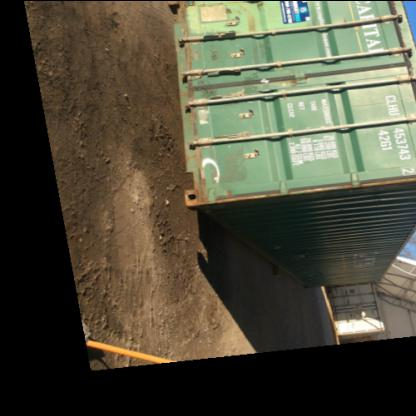Damage: (201, 135, 247, 187), (190, 78, 232, 96), (191, 106, 223, 128), (195, 42, 225, 64)
